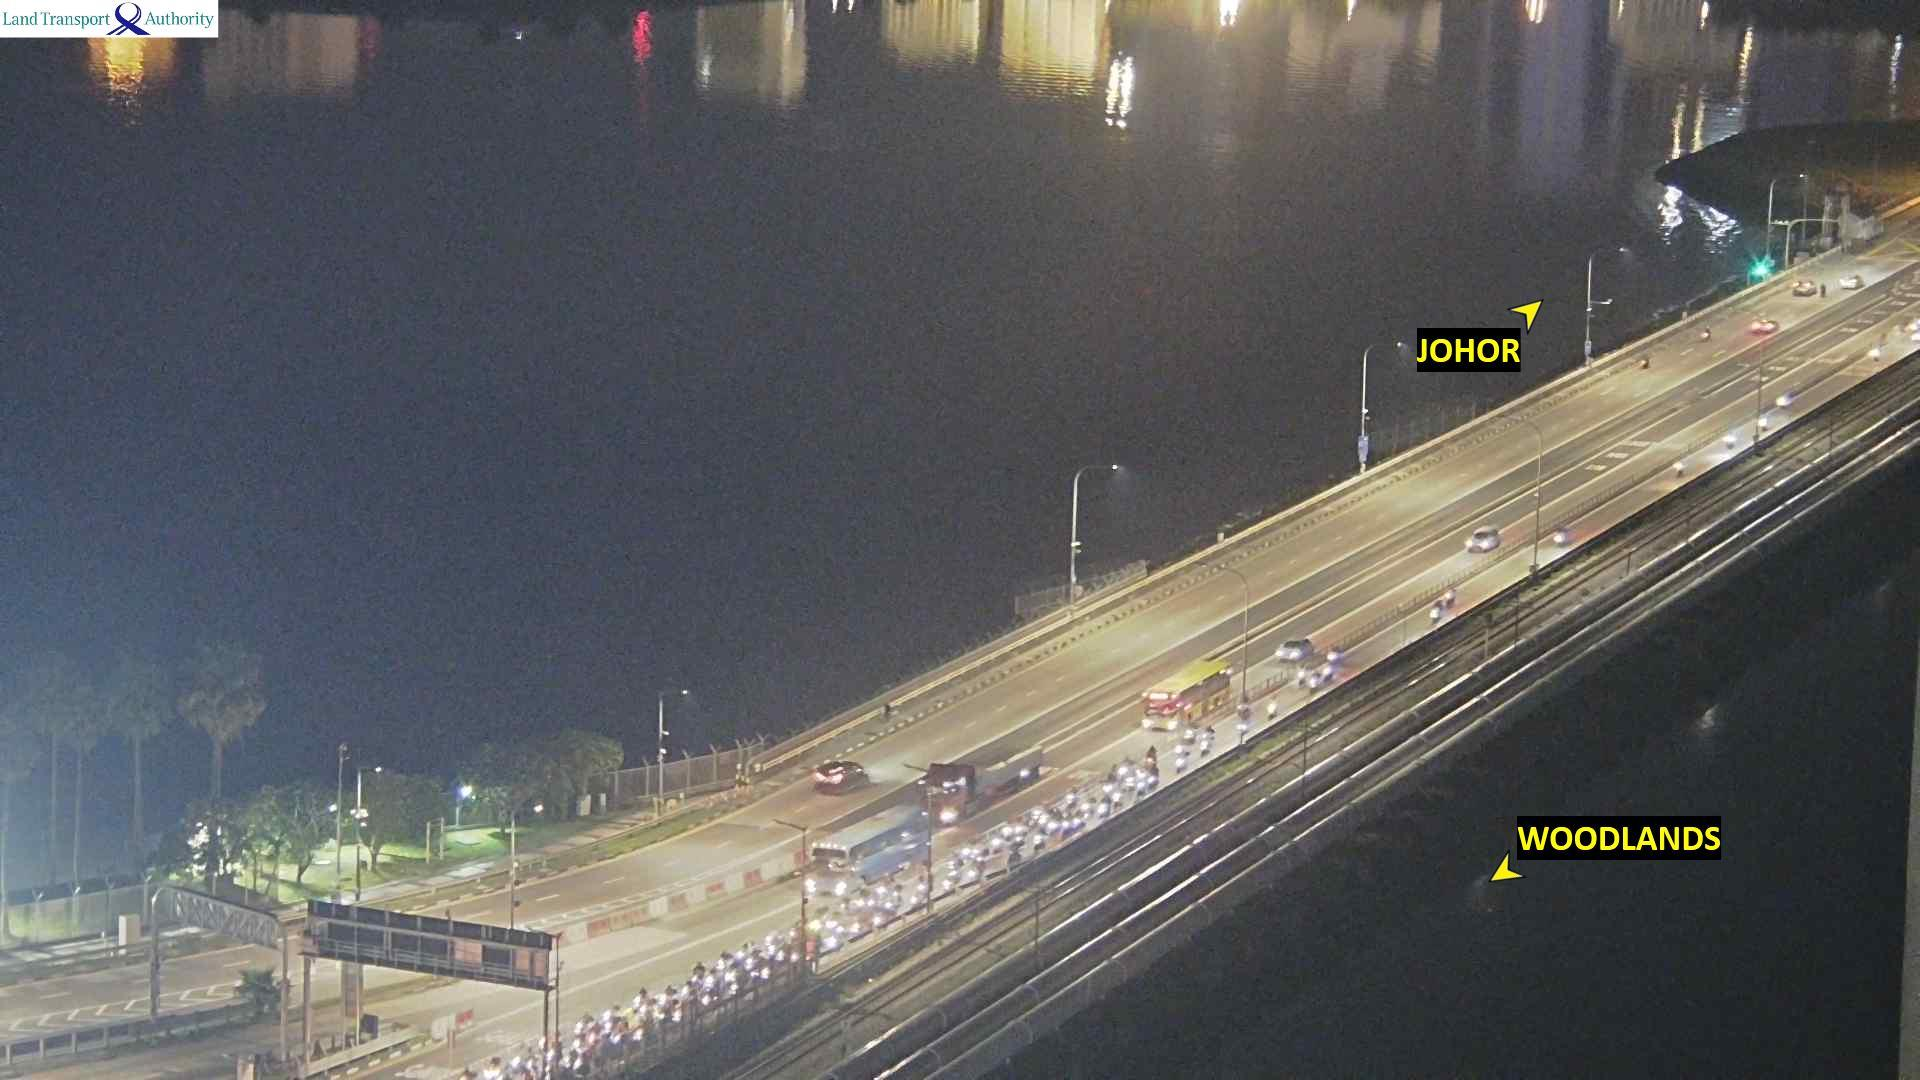vehicle-causeway-johor: (812, 764, 877, 787), (1840, 274, 1865, 290), (1753, 319, 1778, 332), (1793, 280, 1813, 295), (1702, 327, 1712, 339), (1640, 355, 1650, 367)
vehicle-causeway-singapore: (918, 744, 1040, 820), (1143, 662, 1232, 729), (815, 822, 924, 870), (1464, 525, 1498, 553), (1274, 637, 1311, 659), (1175, 744, 1193, 767), (578, 1013, 596, 1035), (607, 1004, 624, 1025), (959, 841, 980, 858), (484, 1058, 500, 1080), (575, 1043, 591, 1064), (657, 990, 673, 1011), (1311, 670, 1329, 687), (509, 1060, 525, 1080), (1266, 695, 1278, 720), (1205, 727, 1218, 748), (720, 965, 735, 984), (1147, 745, 1159, 767), (820, 932, 833, 952), (702, 972, 716, 989), (887, 885, 902, 902), (1444, 585, 1457, 604), (872, 880, 885, 898), (634, 986, 646, 1006), (1556, 527, 1568, 546), (1328, 646, 1341, 662), (1429, 600, 1439, 620), (1776, 393, 1791, 405), (1673, 462, 1685, 475), (1725, 434, 1735, 448), (690, 965, 699, 981), (1002, 825, 1011, 841), (746, 957, 756, 972), (767, 935, 782, 944), (1871, 345, 1879, 361), (851, 916, 858, 932), (942, 878, 952, 890), (1098, 803, 1108, 816), (1034, 836, 1044, 847), (1102, 783, 1113, 794), (1116, 765, 1125, 777), (1762, 417, 1770, 430), (1080, 799, 1088, 811), (1067, 793, 1073, 806)
